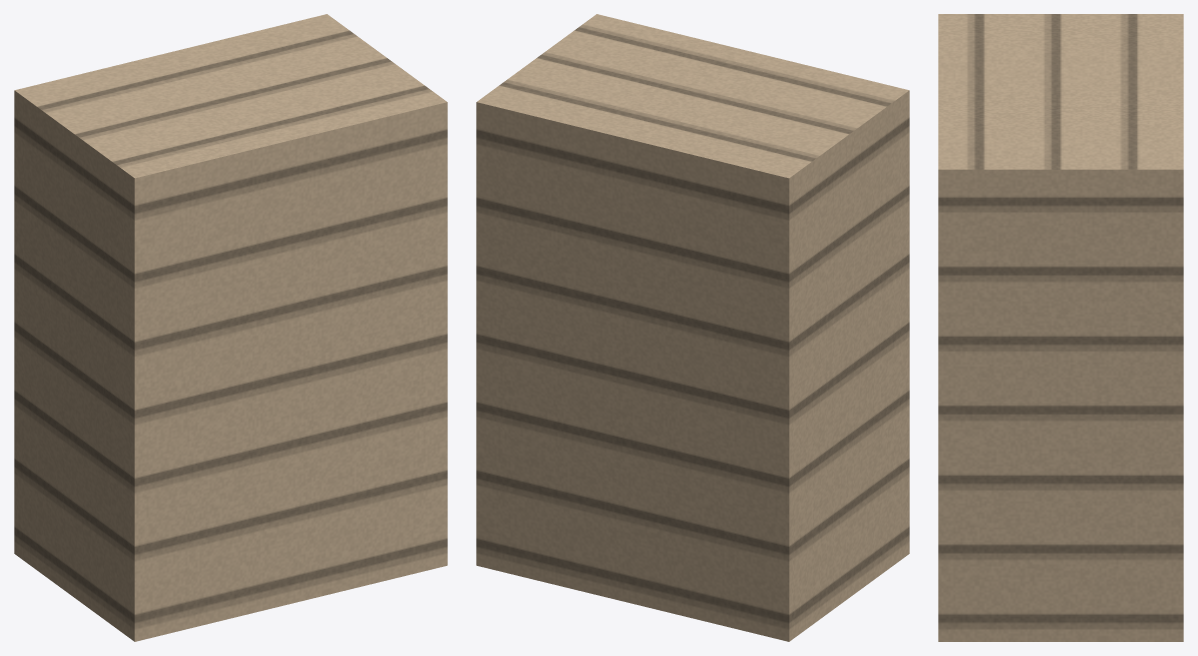
The model's file is washstand.glb.
The picture shows the model from 3 angles, left to right: view 1: azimuth 30°, elevation 25°; view 2: azimuth 150°, elevation 25°; view 3: azimuth 270°, elevation 25°; orthographic projection.
Parts seen in each view (by area): view 1: washstand-col; view 2: washstand-col; view 3: washstand-col.
Part boxes in pixels (x1,y1,x2,y2): washstand-col: (14,14,447,641); washstand-col: (476,14,909,641); washstand-col: (938,14,1183,641).
Size of the model in its own units: 0.6 by 0.85 by 0.4.
Materials: 1 (1 with a texture image).
